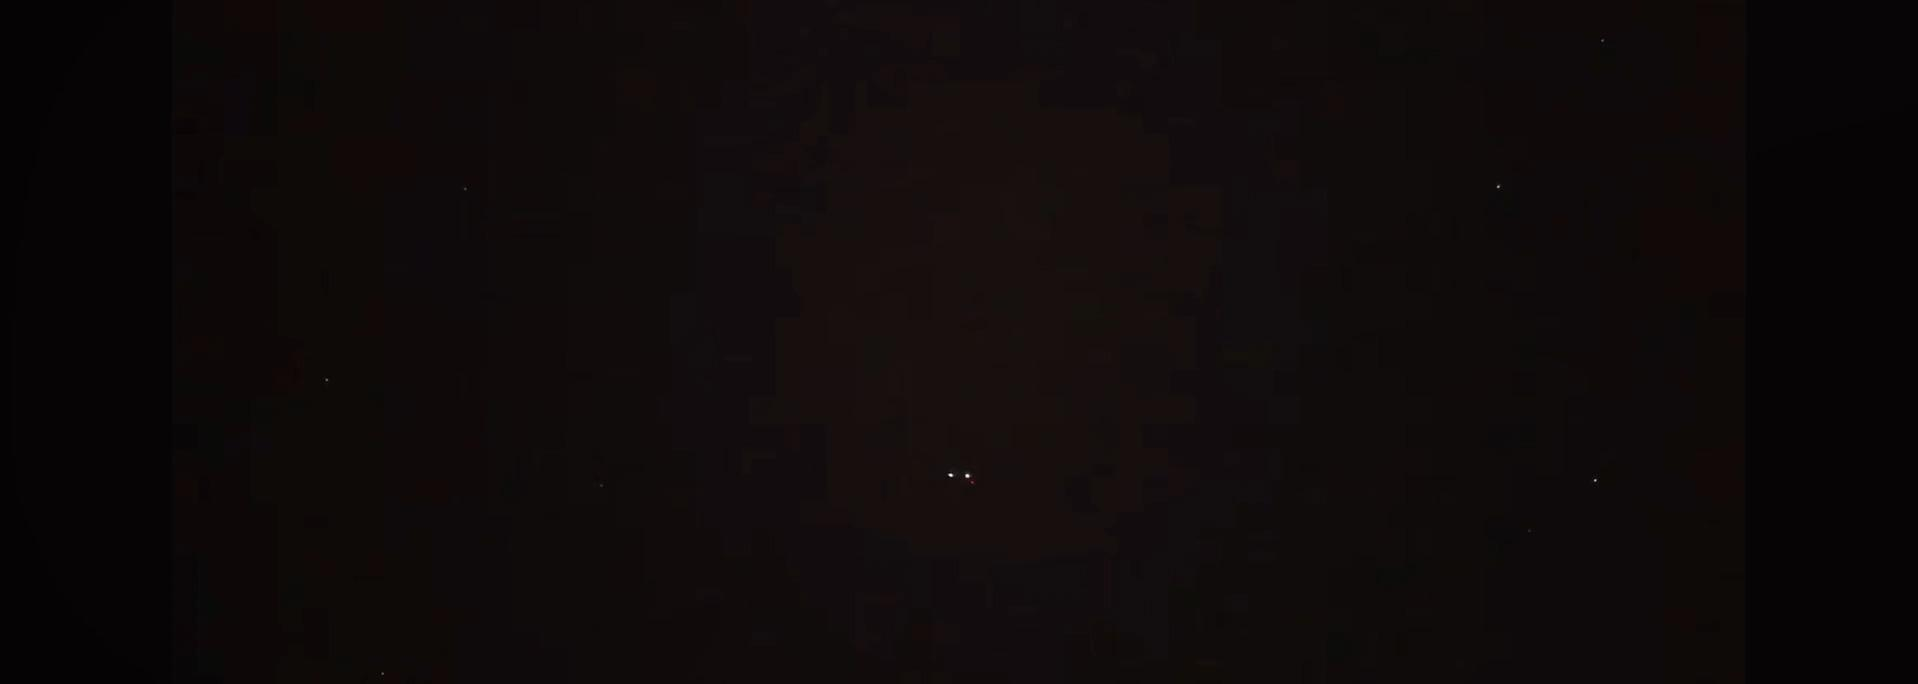Plane: (928, 463, 997, 492)
